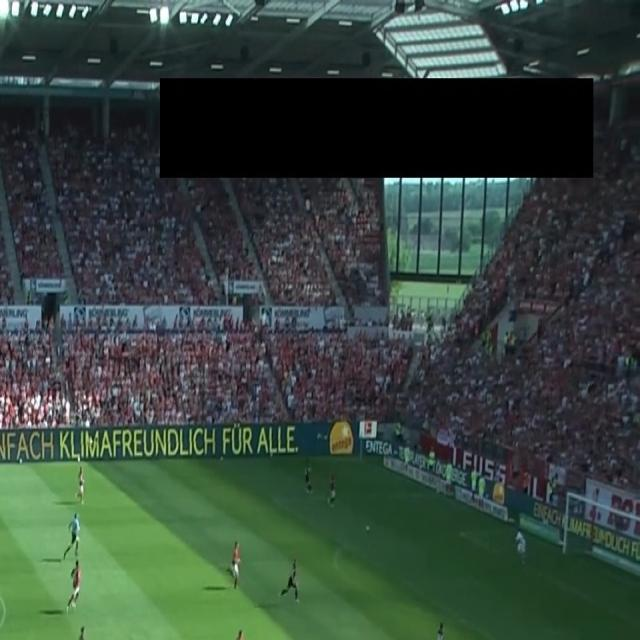ball: (365, 524, 370, 533)
